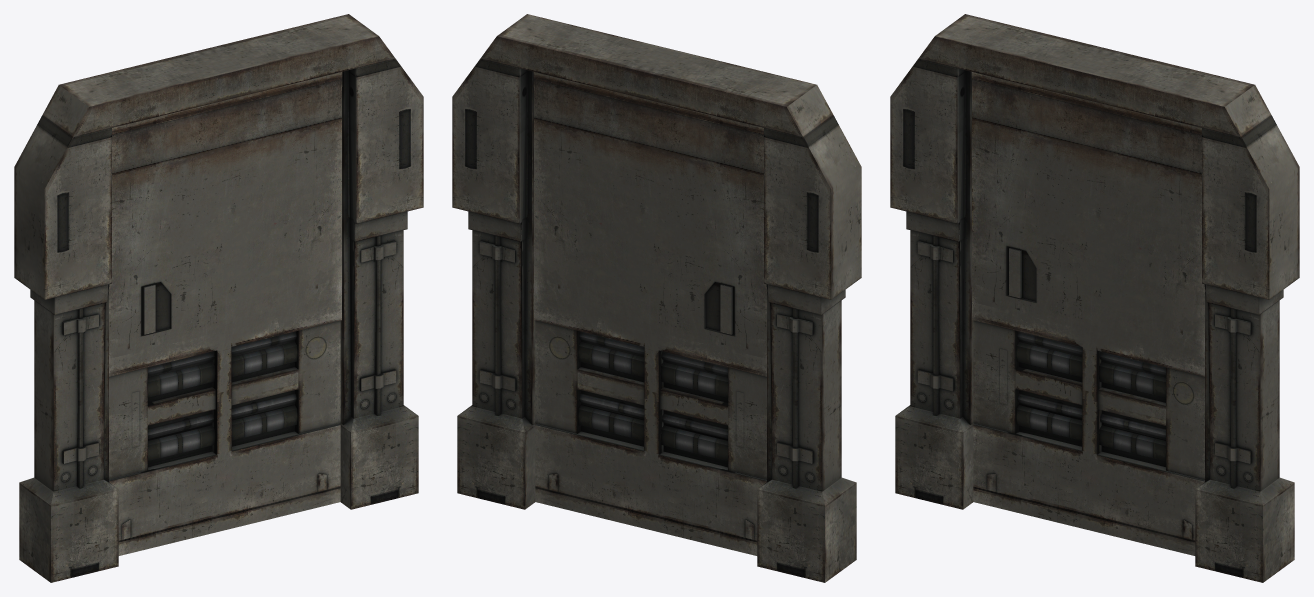
File: slidedoor_medium_white.dae
3 renders of one model, left to right at view 1: azimuth 30°, elevation 25°; view 2: azimuth 150°, elevation 25°; view 3: azimuth 330°, elevation 25°, orthographic.
Visible parts, largest first — view 1: door, frame; view 2: door, frame; view 3: door, frame.
Boxes of the visible parts, x1,y1,x2,y2 form: door: (108, 72, 342, 555); frame: (14, 14, 423, 582); door: (533, 72, 767, 555); frame: (452, 14, 861, 582); door: (971, 72, 1205, 555); frame: (890, 14, 1299, 582).
Bounding box in the file's own units: 2.49 × 2.92 × 0.3604.
